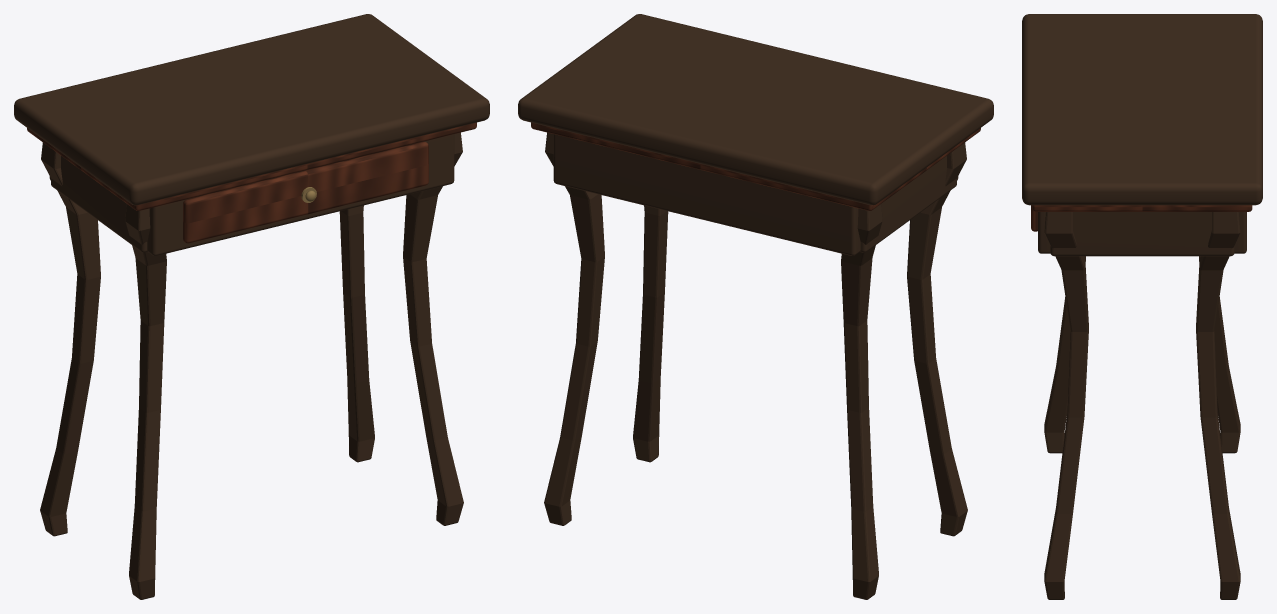
The model's file is side_table.glb.
3 views of the same model, side by side, from view 1: azimuth 30°, elevation 25°; view 2: azimuth 150°, elevation 25°; view 3: azimuth 270°, elevation 25° (orthographic).
Parts seen in each view (by area): view 1: Furniture_SideTable_Top.001, Furniture_SideTable_DrawerFace.001, Furniture_SideTable_CabrioleLeg_00.001, Furniture_SideTable_CabrioleLeg_02.001, Furniture_SideTable_CabrioleLeg_01.001, Furniture_SideTable_CabrioleLeg_03.001, Furniture_SideTable_LongApron_-0.001, Furniture_SideTable_EndApron_-0.001, Furniture_SideTable_TopLip.001; view 2: Furniture_SideTable_Top.001, Furniture_SideTable_LongApron_0.001, Furniture_SideTable_CabrioleLeg_02.001, Furniture_SideTable_CabrioleLeg_00.001, Furniture_SideTable_CabrioleLeg_03.001, Furniture_SideTable_CabrioleLeg_01.001, Furniture_SideTable_EndApron_-0.001, Furniture_SideTable_TopLip.001; view 3: Furniture_SideTable_Top.001, Furniture_SideTable_CabrioleLeg_01.001, Furniture_SideTable_CabrioleLeg_03.001, Furniture_SideTable_EndApron_0.001, Furniture_SideTable_CabrioleLeg_00.001, Furniture_SideTable_CabrioleLeg_02.001, Furniture_SideTable_TopLip.001, Furniture_SideTable_LongApron_-0.001, Furniture_SideTable_LongApron_0.001.
Boxes of the visible parts, box(x1,y1,x2,y2) form: Furniture_SideTable_Top.001: box(14, 14, 489, 205); Furniture_SideTable_DrawerFace.001: box(183, 141, 428, 243); Furniture_SideTable_CabrioleLeg_00.001: box(125, 203, 166, 599); Furniture_SideTable_CabrioleLeg_02.001: box(40, 142, 100, 536); Furniture_SideTable_CabrioleLeg_01.001: box(403, 132, 463, 525); Furniture_SideTable_CabrioleLeg_03.001: box(339, 205, 374, 462); Furniture_SideTable_LongApron_-0.001: box(147, 134, 454, 255); Furniture_SideTable_EndApron_-0.001: box(51, 156, 147, 252); Furniture_SideTable_TopLip.001: box(27, 122, 476, 210); Furniture_SideTable_Top.001: box(518, 14, 993, 205); Furniture_SideTable_LongApron_0.001: box(553, 134, 860, 255); Furniture_SideTable_CabrioleLeg_02.001: box(841, 203, 882, 599); Furniture_SideTable_CabrioleLeg_00.001: box(907, 142, 967, 536); Furniture_SideTable_CabrioleLeg_03.001: box(544, 132, 604, 525); Furniture_SideTable_CabrioleLeg_01.001: box(633, 205, 668, 462); Furniture_SideTable_EndApron_-0.001: box(860, 156, 956, 252); Furniture_SideTable_TopLip.001: box(531, 122, 980, 210); Furniture_SideTable_Top.001: box(1022, 14, 1262, 205); Furniture_SideTable_CabrioleLeg_01.001: box(1044, 212, 1088, 599); Furniture_SideTable_CabrioleLeg_03.001: box(1196, 212, 1240, 599); Furniture_SideTable_EndApron_0.001: box(1050, 212, 1234, 256); Furniture_SideTable_CabrioleLeg_00.001: box(1044, 256, 1085, 453); Furniture_SideTable_CabrioleLeg_02.001: box(1199, 256, 1240, 453); Furniture_SideTable_TopLip.001: box(1032, 205, 1252, 211); Furniture_SideTable_LongApron_-0.001: box(1038, 212, 1050, 253); Furniture_SideTable_LongApron_0.001: box(1234, 212, 1246, 253).
Size of the model in its own units: 0.65 by 0.74 by 0.38.
3 materials, 1 textured.
